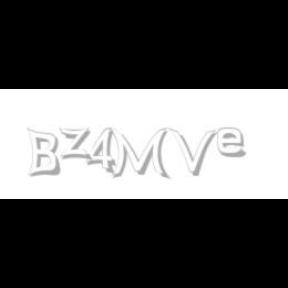4: (86, 128, 116, 174)
B: (26, 128, 60, 178)
M: (109, 128, 168, 180)
V: (169, 128, 217, 176)
e: (218, 128, 250, 158)
z: (58, 128, 94, 160)
